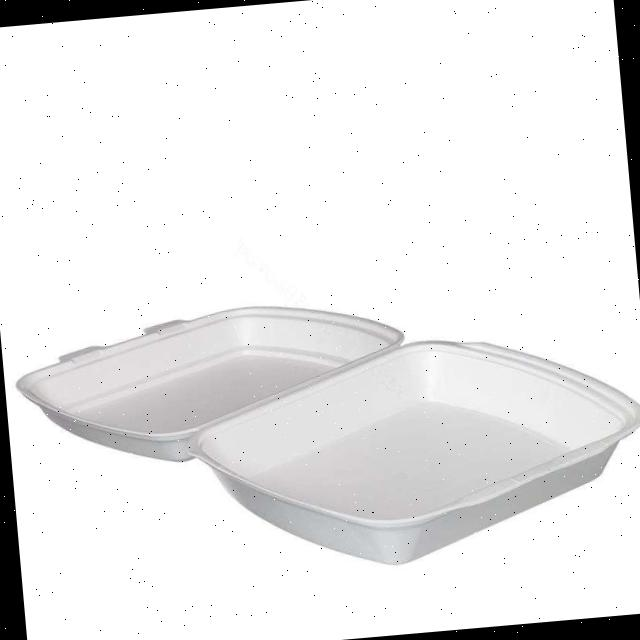styrofoam: (10, 269, 640, 596)
